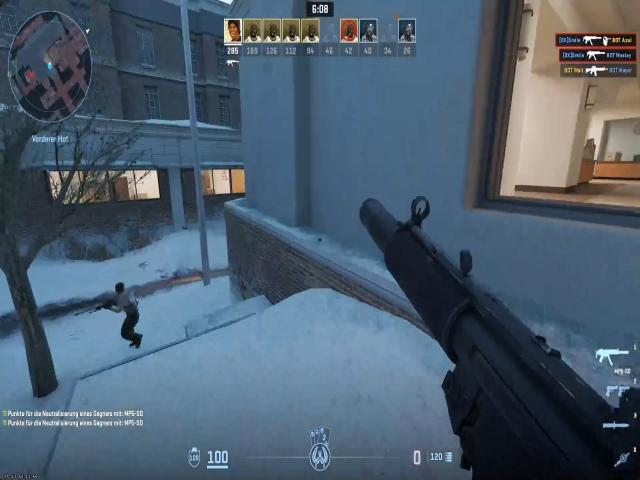T: (111, 282, 143, 332)
T-Head: (113, 278, 127, 296)
